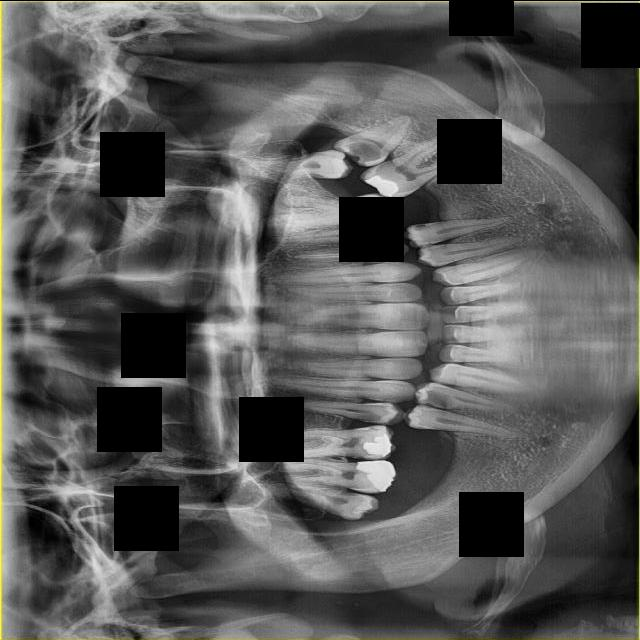71: (348, 251, 369, 257)
72: (436, 428, 455, 443)
74: (295, 251, 358, 257), (295, 254, 350, 256)
NucleOSS Implant: (353, 446, 402, 494), (356, 193, 402, 239), (362, 169, 402, 200), (361, 432, 396, 460), (362, 239, 400, 260), (362, 229, 394, 243)
Sterngold Implant: (343, 131, 386, 170), (417, 387, 463, 410), (411, 222, 428, 231), (363, 424, 382, 431), (414, 423, 434, 429), (303, 172, 326, 177), (350, 195, 365, 202), (418, 240, 434, 246), (422, 244, 436, 248)
